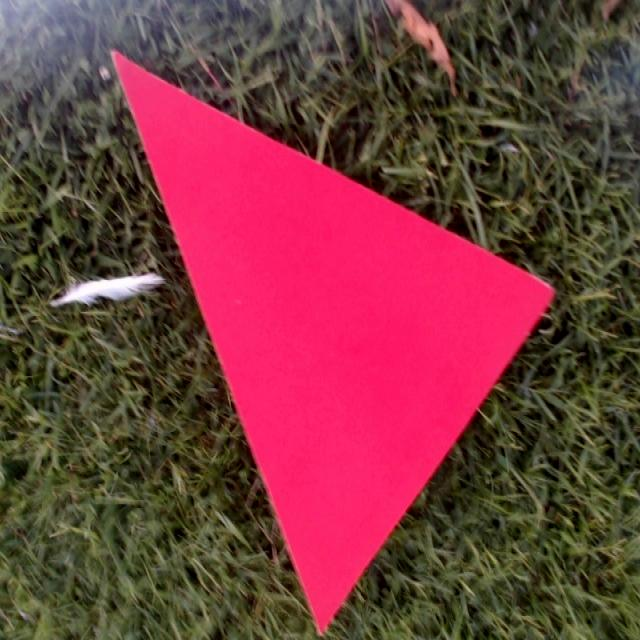red_triangle: (110, 45, 555, 640)
